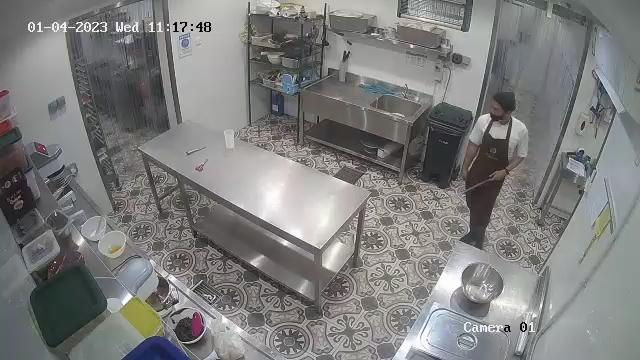no_apron: (461, 117, 520, 199)
